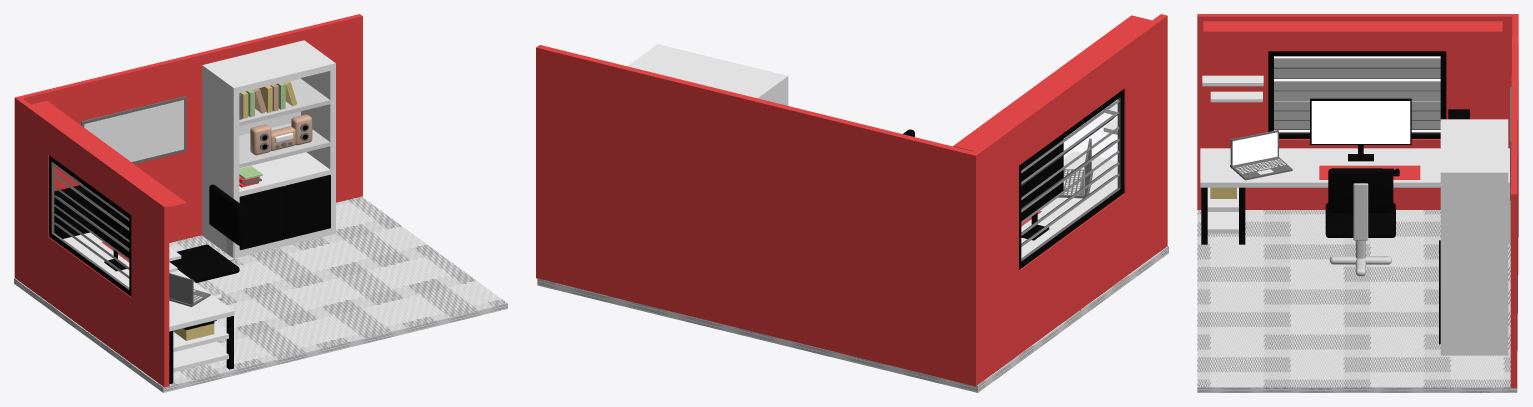
Rendered from workspace_withRoom.glb.
3 views of the same model, side by side, from view 1: azimuth 30°, elevation 25°; view 2: azimuth 150°, elevation 25°; view 3: azimuth 270°, elevation 25° (orthographic). The views are drawn at different scales.
Parts seen in each view (by area): view 1: Room, lemari, Tabel, White_board, window, Chair, Decor_Light, radio, CPU, Book, monitor, laptop (+1 smaller); view 2: Room, window, lemari, Decor_Light, Tabel, monitor, laptop; view 3: Room, lemari, window, Tabel, Chair, Decor_Light, monitor, laptop, decor, keyboard_mat, Box.
Part boxes in pixels (<box>): Room: <box>14,14,507,392</box>; lemari: <box>202,40,335,258</box>; Tabel: <box>63,232,234,384</box>; White_board: <box>81,96,186,163</box>; window: <box>49,155,131,296</box>; Chair: <box>169,184,243,300</box>; Decor_Light: <box>31,101,186,212</box>; radio: <box>250,114,312,155</box>; CPU: <box>54,185,93,238</box>; Book: <box>239,81,297,119</box>; monitor: <box>93,192,129,271</box>; laptop: <box>169,273,210,306</box>; Room: <box>536,14,1168,392</box>; window: <box>1019,89,1124,269</box>; lemari: <box>628,44,788,105</box>; Decor_Light: <box>953,15,1151,151</box>; Tabel: <box>1021,151,1117,257</box>; monitor: <box>1021,139,1063,240</box>; laptop: <box>1058,138,1093,198</box>; Room: <box>1197,14,1518,392</box>; lemari: <box>1439,119,1508,355</box>; window: <box>1268,51,1446,138</box>; Tabel: <box>1200,148,1510,244</box>; Chair: <box>1325,168,1395,276</box>; Decor_Light: <box>1203,21,1502,37</box>; monitor: <box>1310,98,1411,161</box>; laptop: <box>1230,130,1292,180</box>; decor: <box>1202,75,1263,102</box>; keyboard_mat: <box>1319,165,1420,179</box>; Box: <box>1210,187,1236,198</box>.
Size of the model in its own units: 4.01 by 2.06 by 3.01.
Materials: 15 (1 with a texture image).
